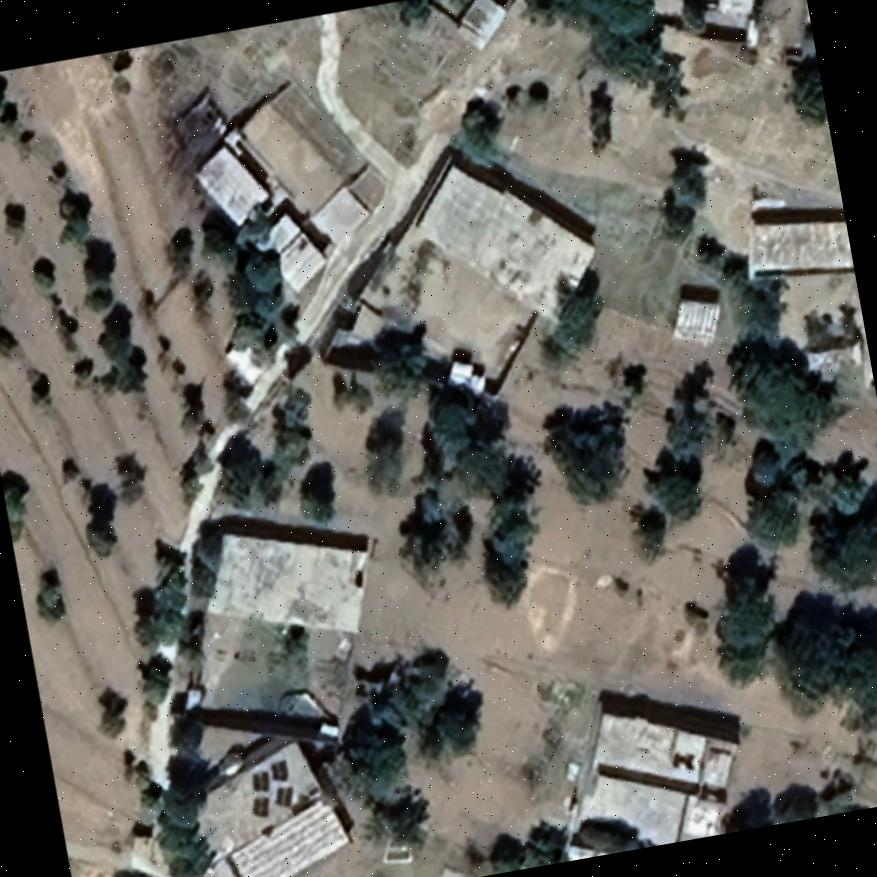Solarpanel: (266, 756, 289, 780), (247, 770, 269, 792), (251, 793, 270, 816), (274, 786, 293, 808)
